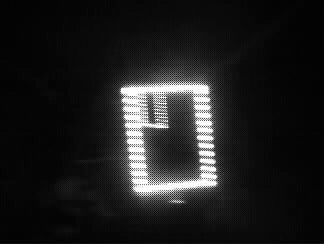gate: (80, 88, 324, 244)
